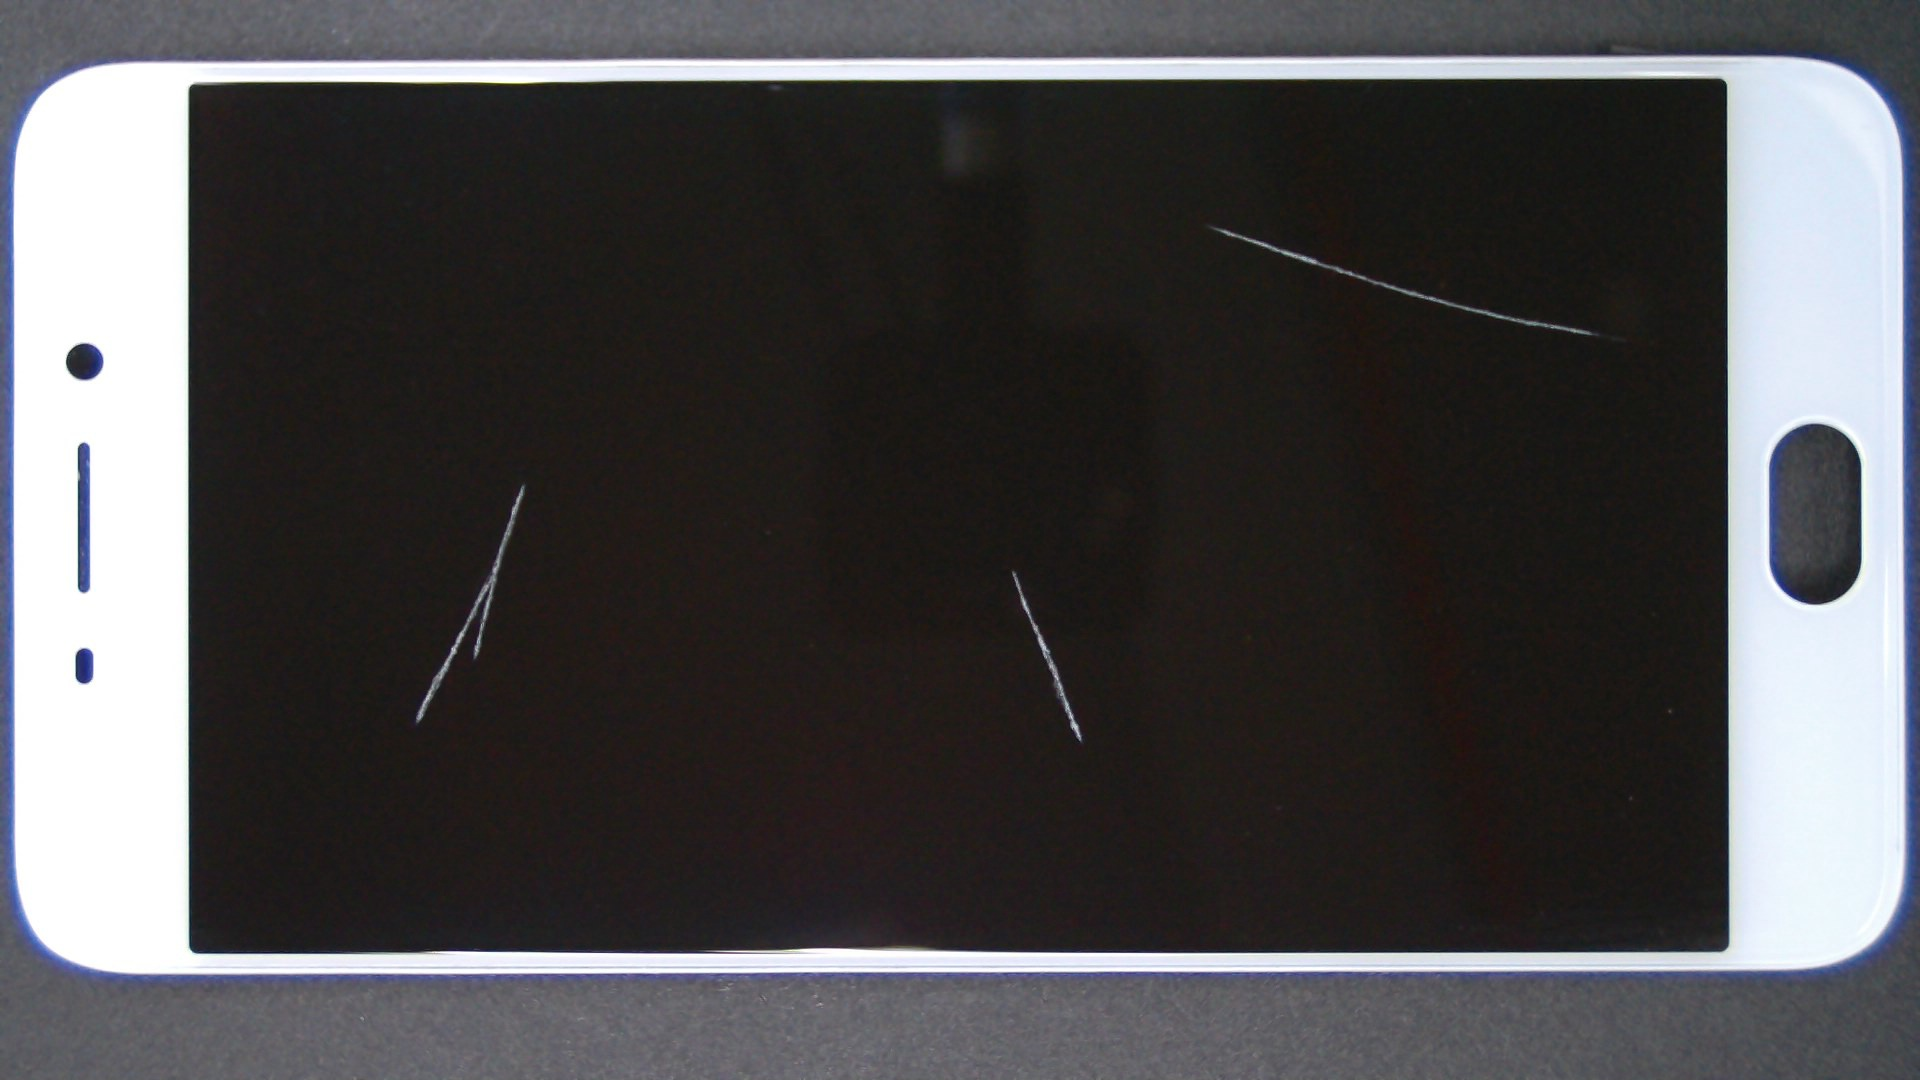oil: (505, 284, 1516, 857), (603, 111, 1812, 338), (261, 241, 782, 727)
